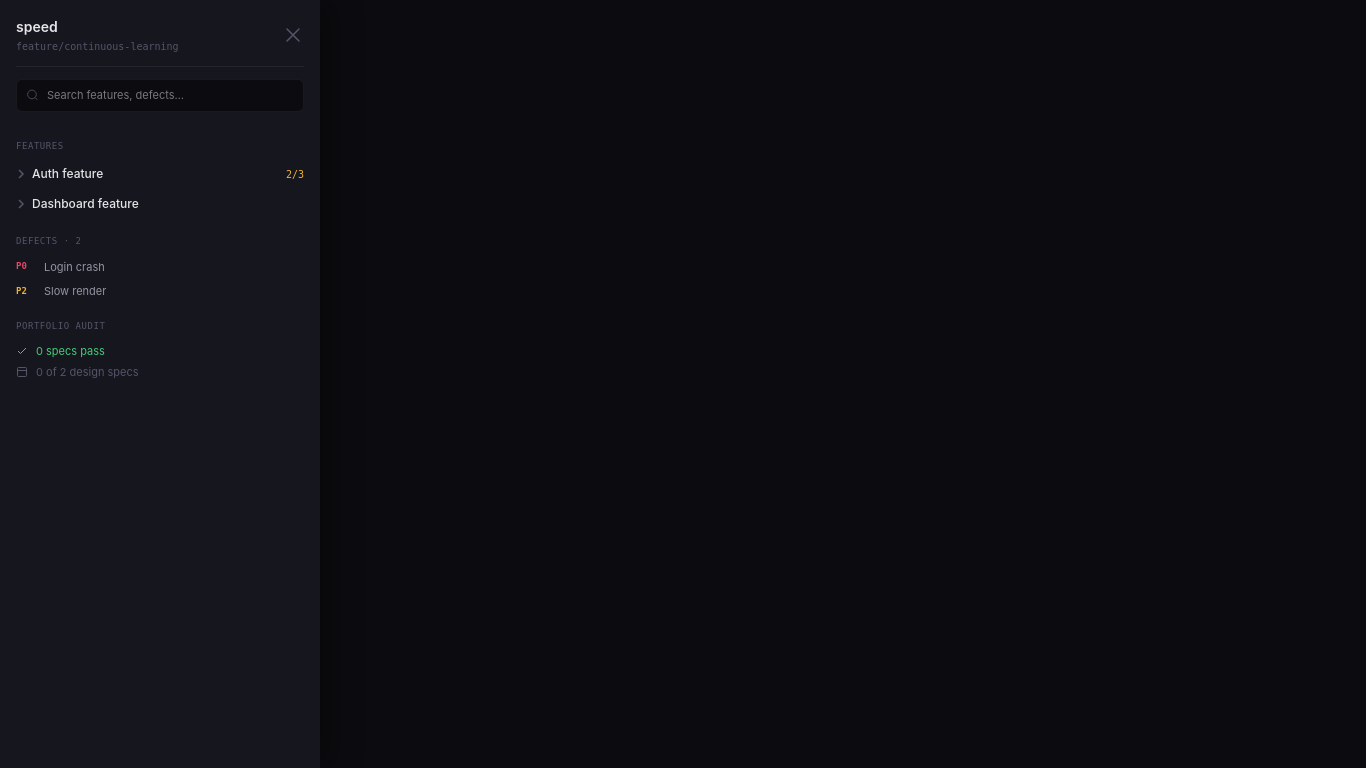
Scenario: ExplorerPanel › search › filters features by name
Step 1. Type "Auth" into the field with placeholder "Search features, defects…" → point(160, 95), box x1=16 y1=79 x2=304 y2=112
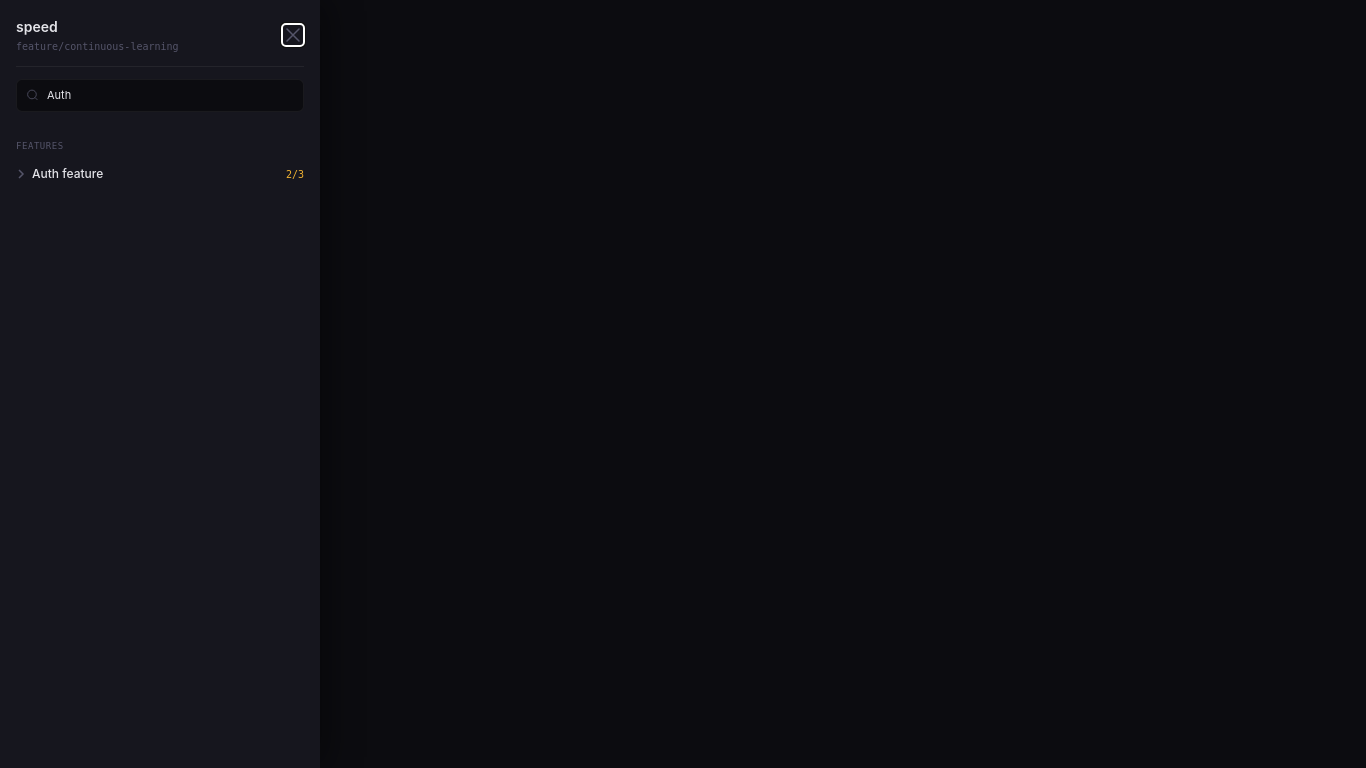
Expected: the text "Auth feature" is shown, x1=32 y1=166 x2=103 y2=181
Expected: the button "Dashboard feature" is gone
